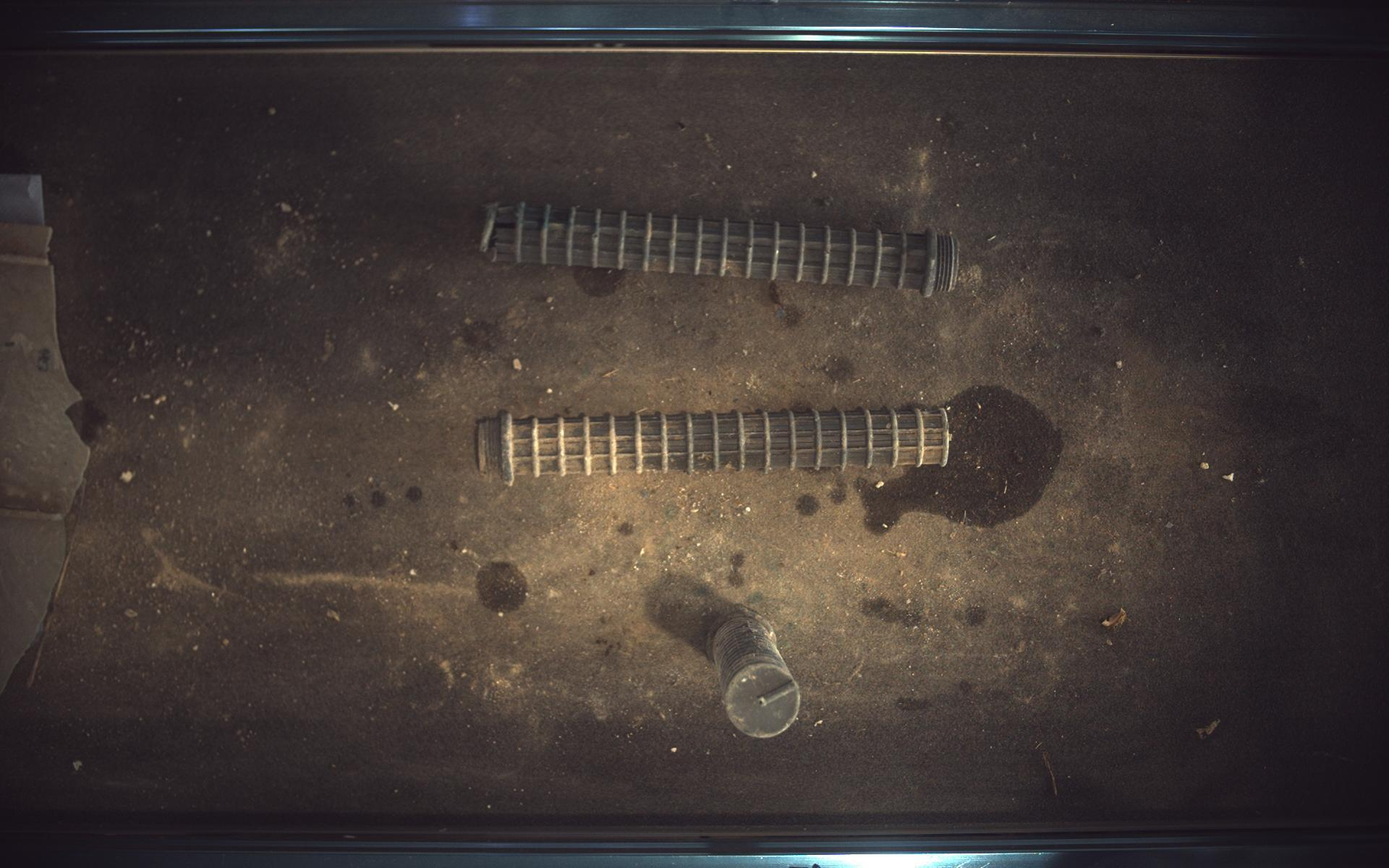plastic: (480, 202, 961, 297), (477, 408, 951, 486)
